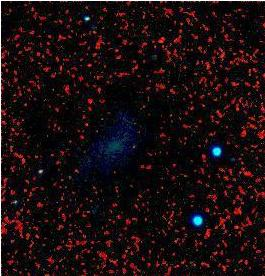star: (116, 131, 146, 161)
